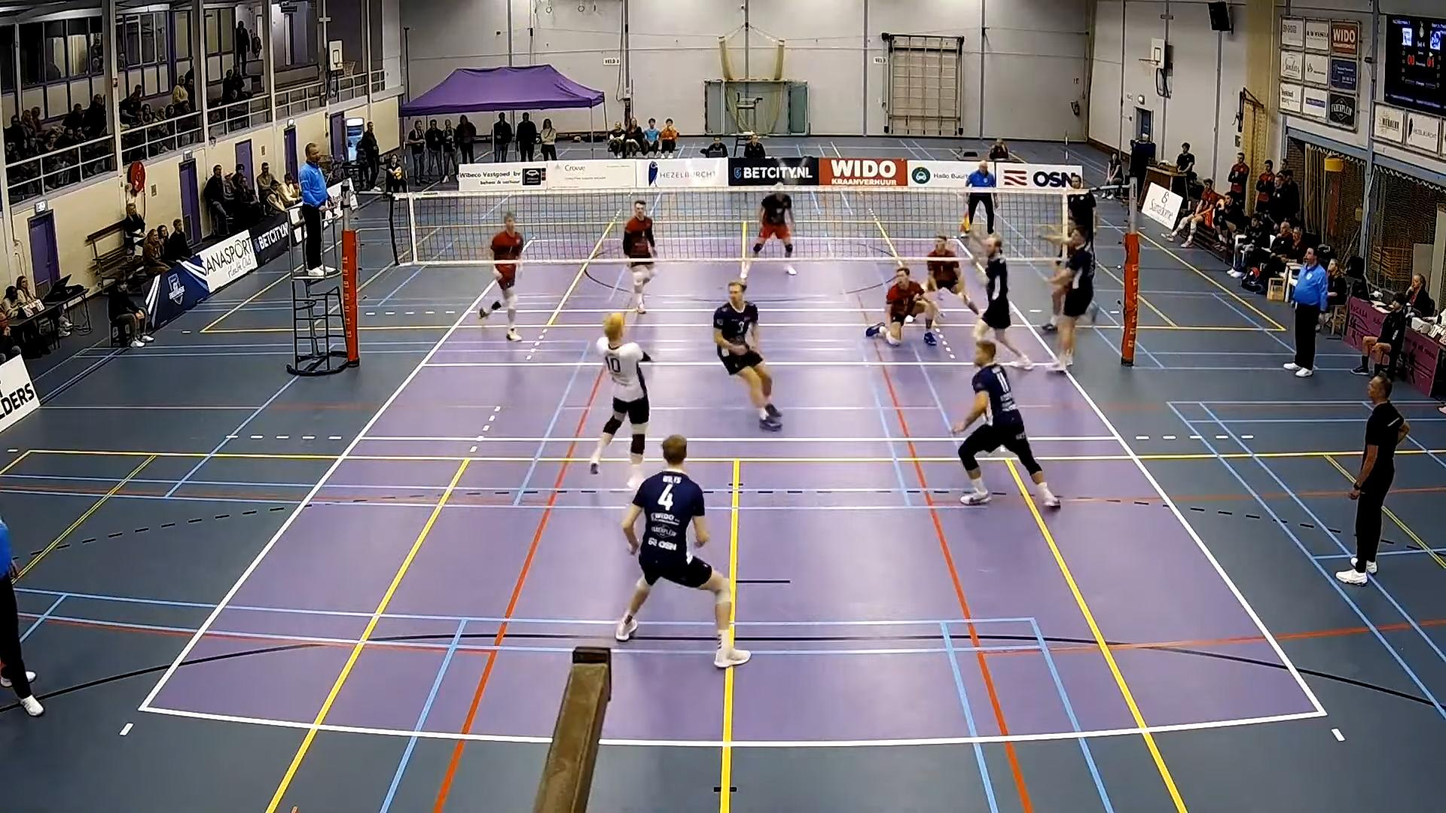Dig: (591, 312, 658, 467)
Player: (615, 435, 749, 668), (951, 340, 1059, 507), (714, 281, 781, 431), (974, 236, 1032, 370), (1051, 229, 1094, 372), (866, 264, 936, 346), (479, 212, 523, 341), (926, 236, 978, 319), (622, 199, 655, 314), (752, 187, 792, 257)
ball: (600, 312, 636, 334)
